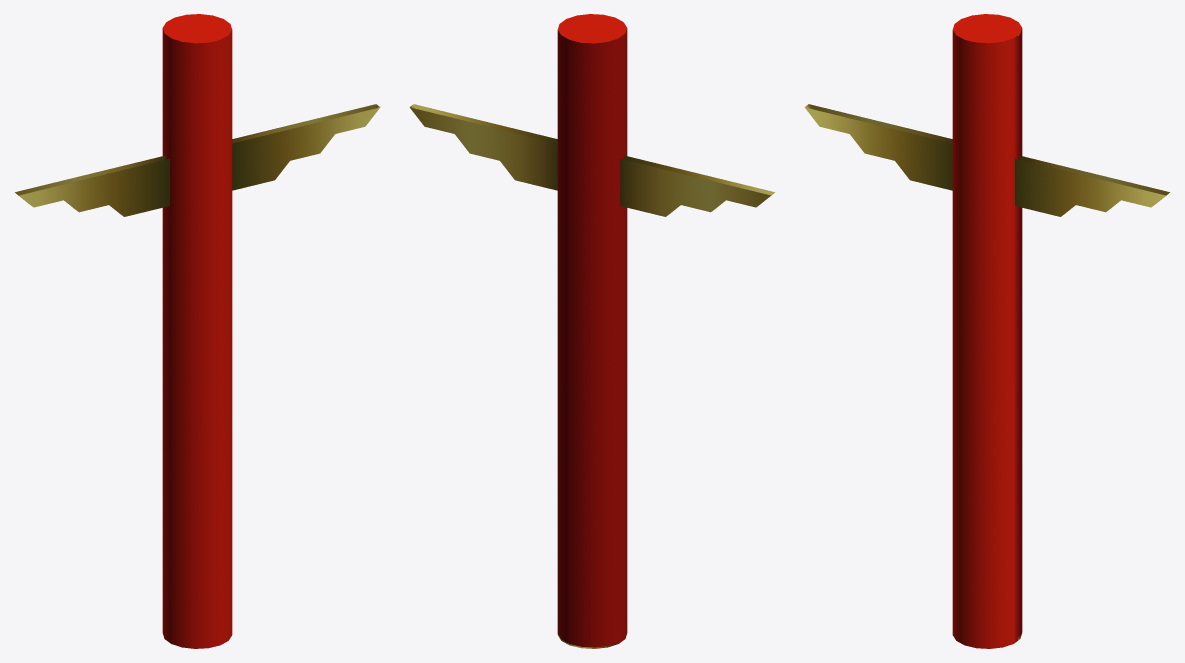
File: barecol.dae
3 renders of one model, left to right at view 1: azimuth 30°, elevation 25°; view 2: azimuth 150°, elevation 25°; view 3: azimuth 330°, elevation 25°, orthographic.
Visible parts, largest first — view 1: MainNode; view 2: MainNode; view 3: MainNode.
Part boxes in pixels (x1,y1,x2,y2): MainNode: (15,14,380,648); MainNode: (409,14,774,648); MainNode: (804,14,1169,648).
Size of the model in its own units: 3 by 4.8 by 0.4904.
Materials: 1 (1 with a texture image).
